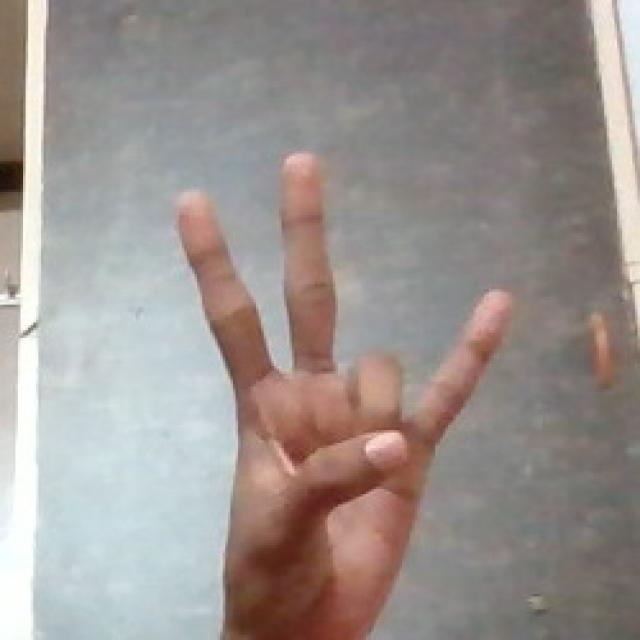Numeric-7: (171, 135, 516, 619)
